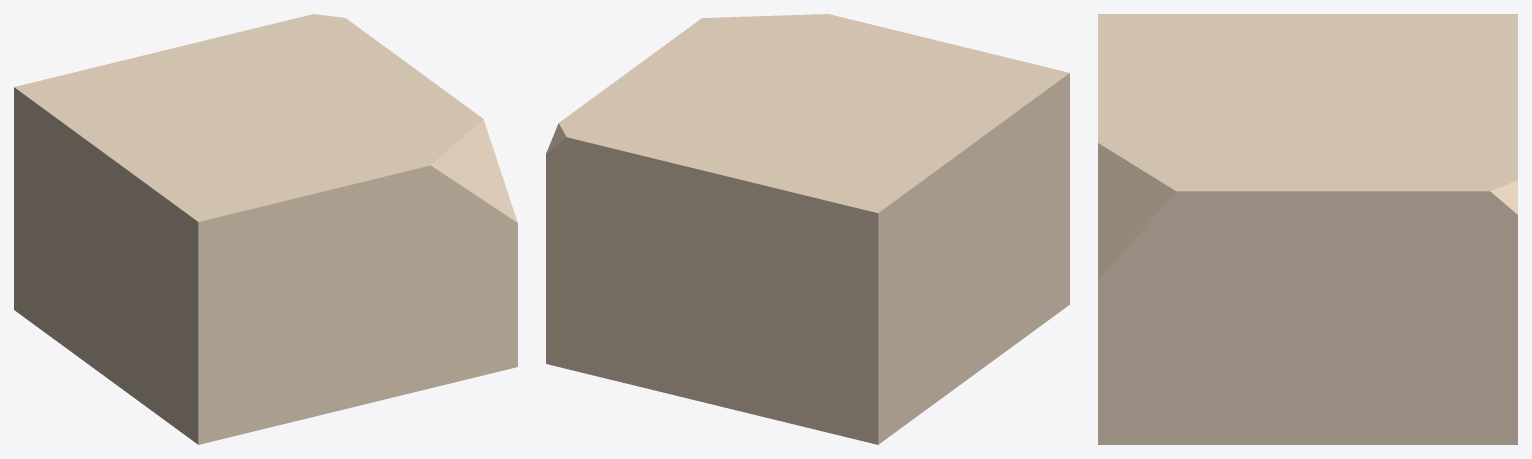
3 renders of one model, left to right at view 1: azimuth 30°, elevation 25°; view 2: azimuth 150°, elevation 25°; view 3: azimuth 270°, elevation 25°, orthographic. The views are drawn at different scales.
Visible parts, largest first — view 1: object6.001; view 2: object6.001; view 3: object6.001.
Part boxes in pixels (x1,y1,x2,y2): object6.001: (14, 14, 517, 444); object6.001: (546, 14, 1069, 444); object6.001: (1098, 14, 1517, 444).
Size of the model in its own units: 0.15 by 0.1 by 0.15.
